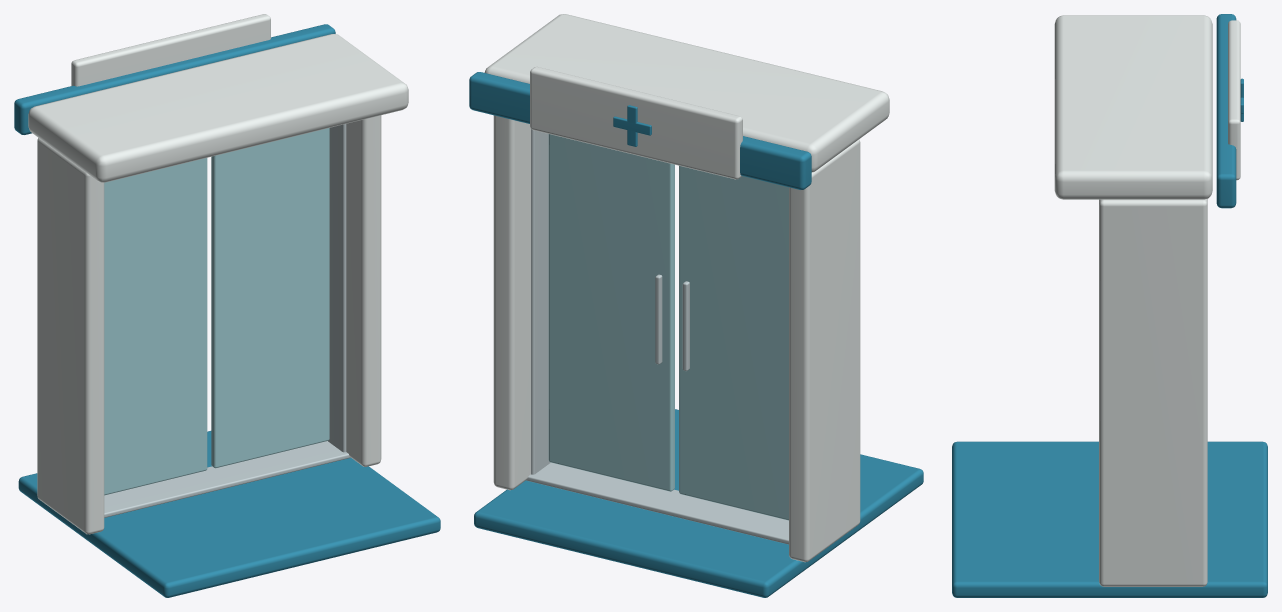
Rendered from doors.glb.
3 views of the same model, side by side, from view 1: azimuth 30°, elevation 25°; view 2: azimuth 150°, elevation 25°; view 3: azimuth 270°, elevation 25° (orthographic). The views are drawn at different scales.
Parts seen in each view (by area): view 1: Powder coated warm white static geometry, Door glass R, Door glass L, Cerulean structural edge static geometry, Brushed door hardware static geometry; view 2: Powder coated warm white static geometry, Door glass R, Door glass L, Cerulean structural edge static geometry, Brushed door hardware static geometry, Vertical door handle.001, Vertical door handle; view 3: Powder coated warm white static geometry, Cerulean structural edge static geometry.
Part boxes in pixels (x1,y1,x2,y2): Powder coated warm white static geometry: (28, 14, 408, 534); Door glass R: (211, 128, 329, 468); Door glass L: (104, 158, 207, 495); Cerulean structural edge static geometry: (14, 24, 440, 597); Brushed door hardware static geometry: (104, 124, 350, 517); Powder coated warm white static geometry: (484, 14, 889, 562); Door glass R: (548, 134, 674, 491); Door glass L: (679, 166, 788, 520); Cerulean structural edge static geometry: (469, 72, 923, 597); Brushed door hardware static geometry: (526, 129, 788, 544); Vertical door handle.001: (655, 274, 662, 364); Vertical door handle: (682, 281, 689, 371); Powder coated warm white static geometry: (1054, 15, 1240, 586); Cerulean structural edge static geometry: (952, 14, 1267, 597).
Size of the model in its own units: 1.96 by 2.56 by 1.6.
